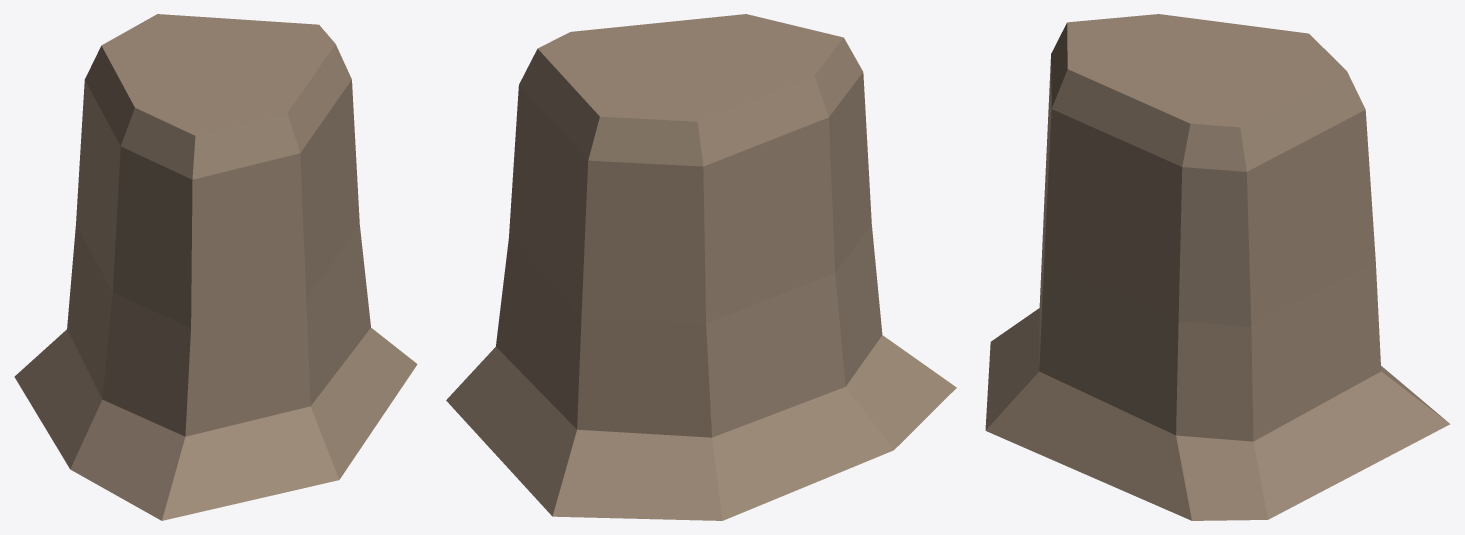
File: mountain4.glb
3 renders of one model, left to right at view 1: azimuth 30°, elevation 25°; view 2: azimuth 150°, elevation 25°; view 3: azimuth 270°, elevation 25°, orthographic. The views are drawn at different scales.
Visible parts, largest first — view 1: Cylinder.039; view 2: Cylinder.039; view 3: Cylinder.039.
Boxes of the visible parts, x1,y1,x2,y2 form: Cylinder.039: [14, 14, 417, 520]; Cylinder.039: [446, 14, 956, 520]; Cylinder.039: [985, 14, 1450, 520].
Bounding box in the file's own units: 30 × 26.53 × 31.48.
